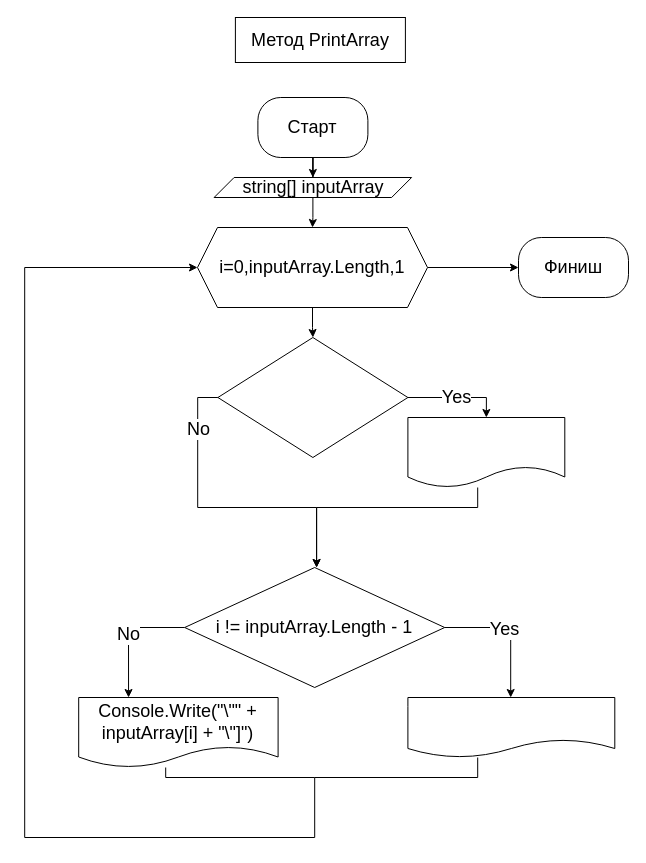
The diagram is 646 pixels wide and 863 high, and some of its shapes have lost their labels. The centre of each missing label's shape, as x and y in pixels:
Console.Write("["): pixel 486 452
Console.Write("\"" + inputArray[i] + "\", "): pixel 511 727
i==0: pixel 312 397
